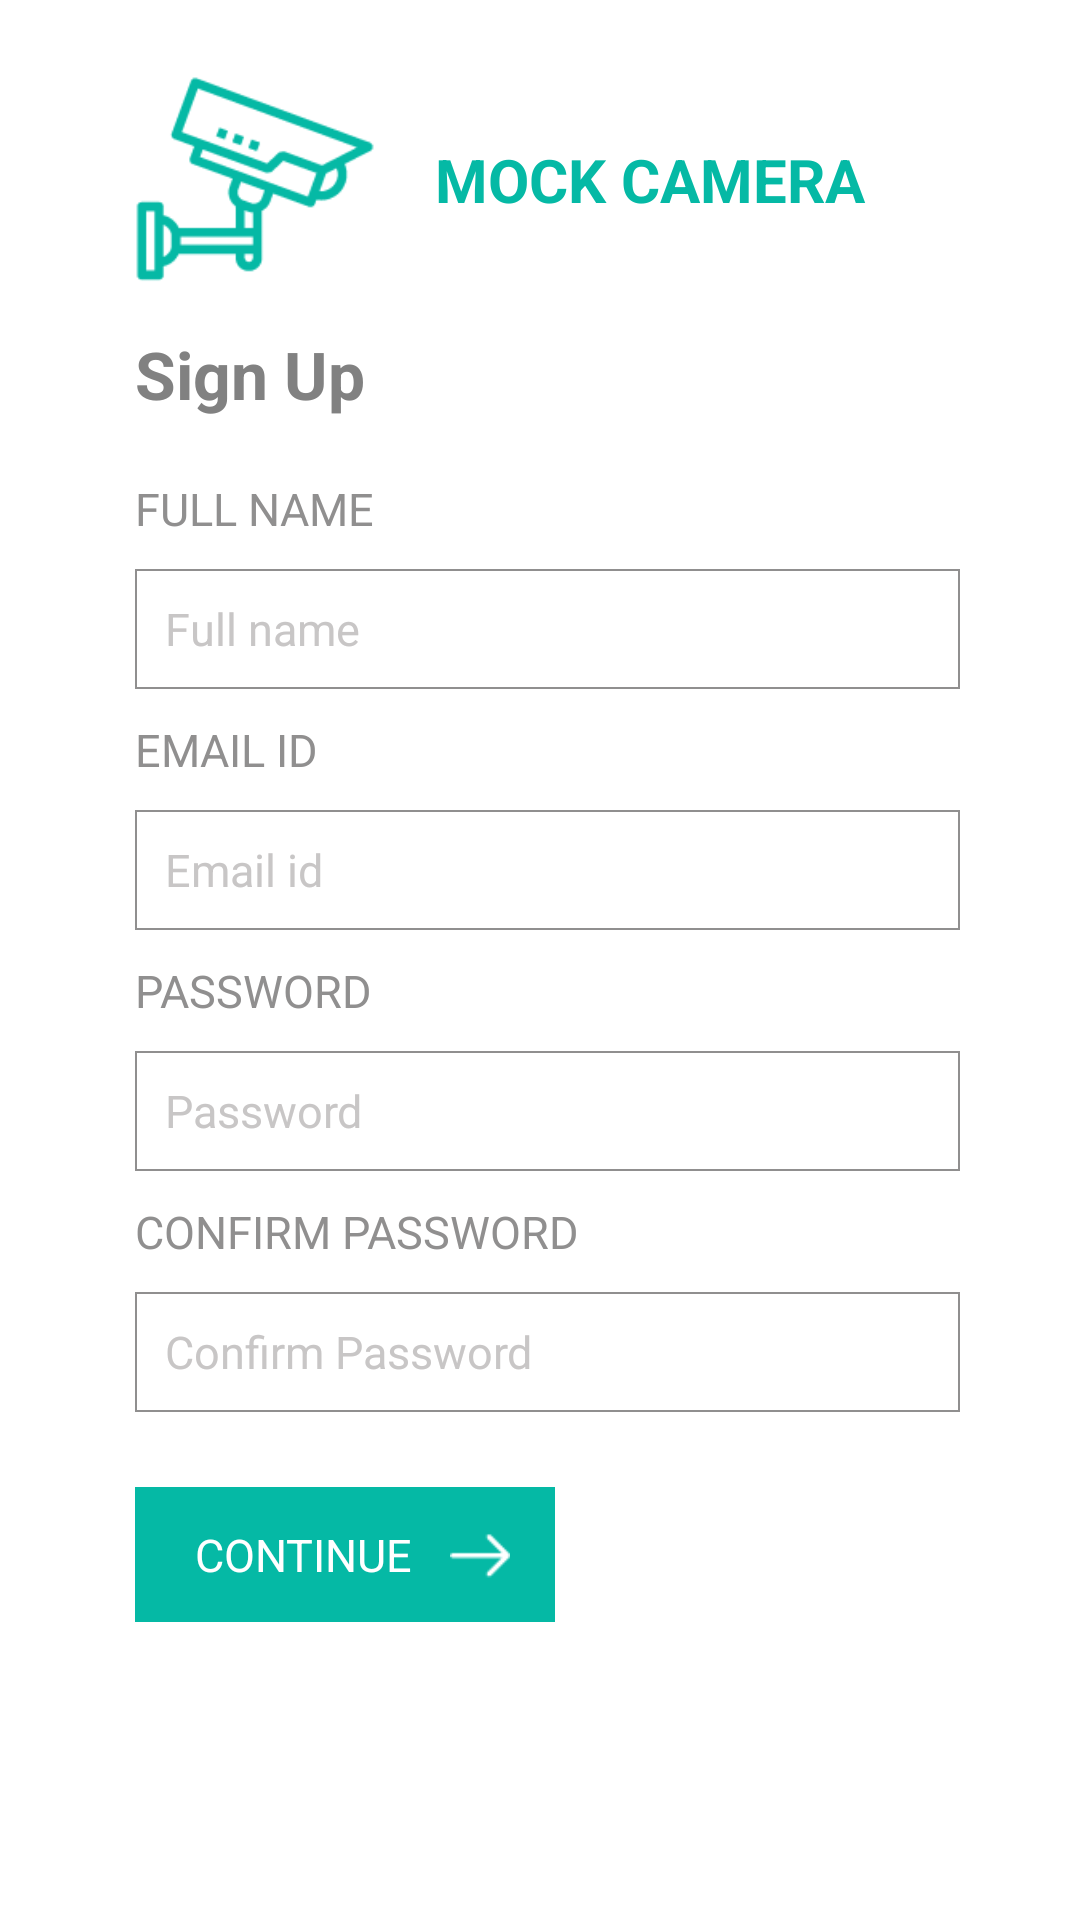

Named icons in this screenshot (1080w x 1920h) and their bounding boxes, (x1, y1, x2, y2):
right arrow: (450, 1534, 510, 1578)
